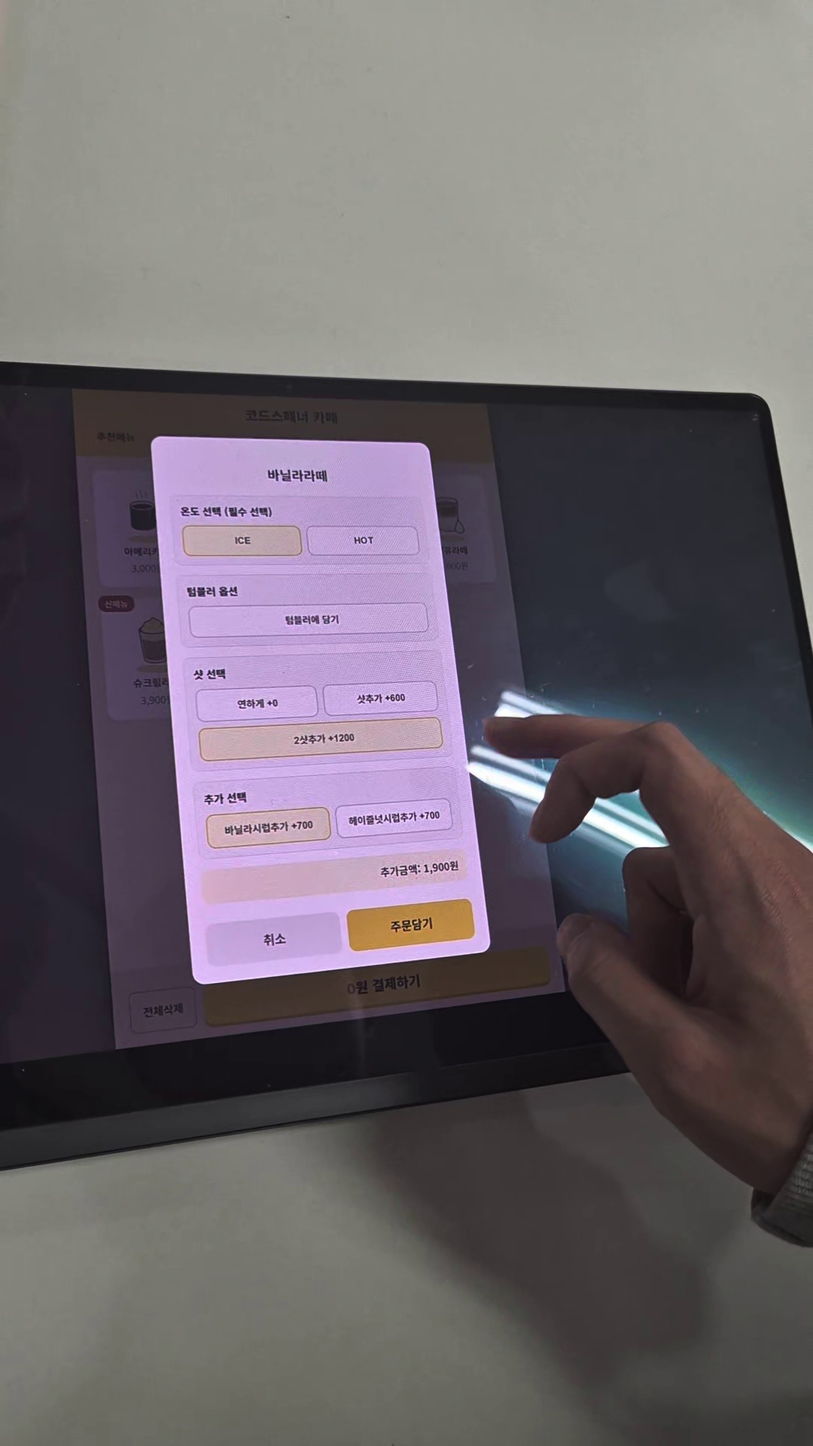action_button: (207, 912, 342, 963), (348, 899, 474, 951)
option_button: (199, 717, 443, 763), (190, 603, 428, 638), (207, 807, 330, 848), (336, 798, 452, 839), (197, 687, 318, 721), (324, 681, 437, 715), (182, 526, 302, 557), (308, 526, 419, 556)
popup_modal: (152, 438, 494, 986)
